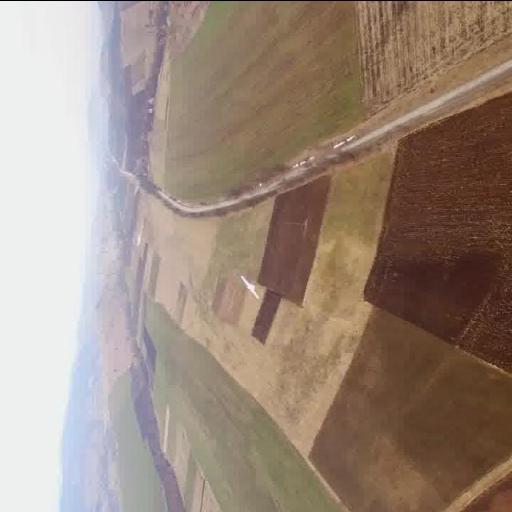uav: (237, 274, 272, 300)
